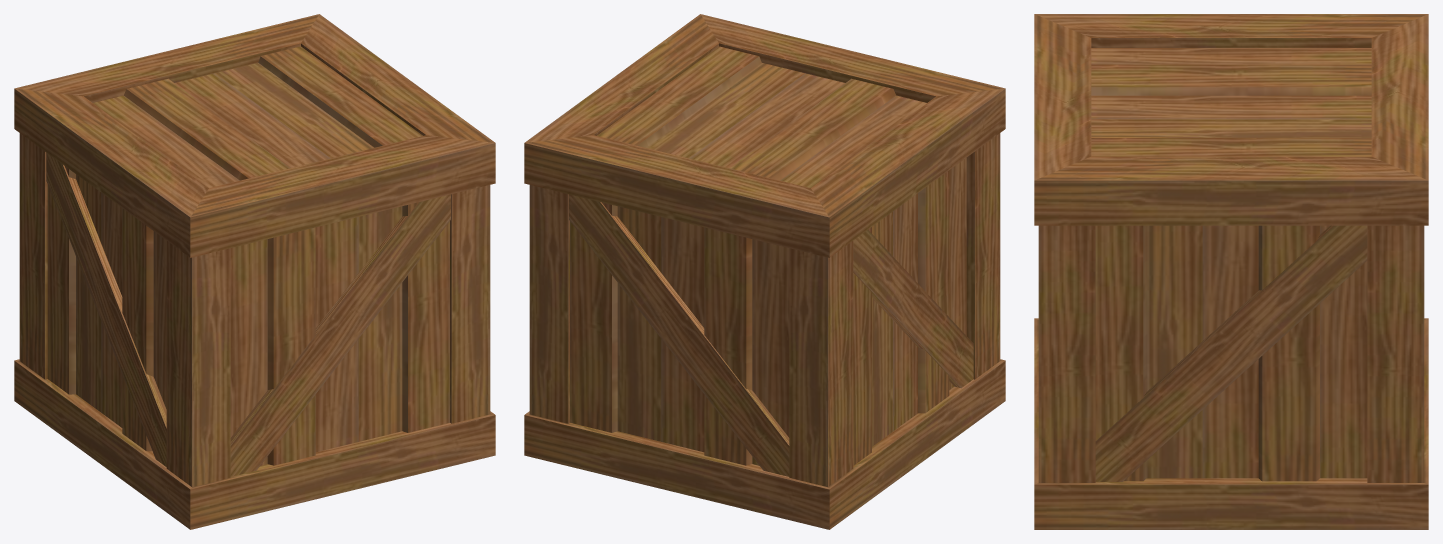
The model's file is med-crate.glb.
3 views of the same model, side by side, from view 1: azimuth 30°, elevation 25°; view 2: azimuth 150°, elevation 25°; view 3: azimuth 270°, elevation 25° (orthographic). The views are drawn at different scales.
Visible parts, largest first — view 1: T_Prop_Crate.001; view 2: T_Prop_Crate.001; view 3: T_Prop_Crate.001.
Boxes of the visible parts, left/top/right/bottom form: T_Prop_Crate.001: left=14, top=14, right=495, bottom=529; T_Prop_Crate.001: left=524, top=14, right=1005, bottom=529; T_Prop_Crate.001: left=1034, top=14, right=1428, bottom=529.
Bounding box in the file's own units: 1.08 × 1.06 × 1.08.
1 material, 1 textured.
